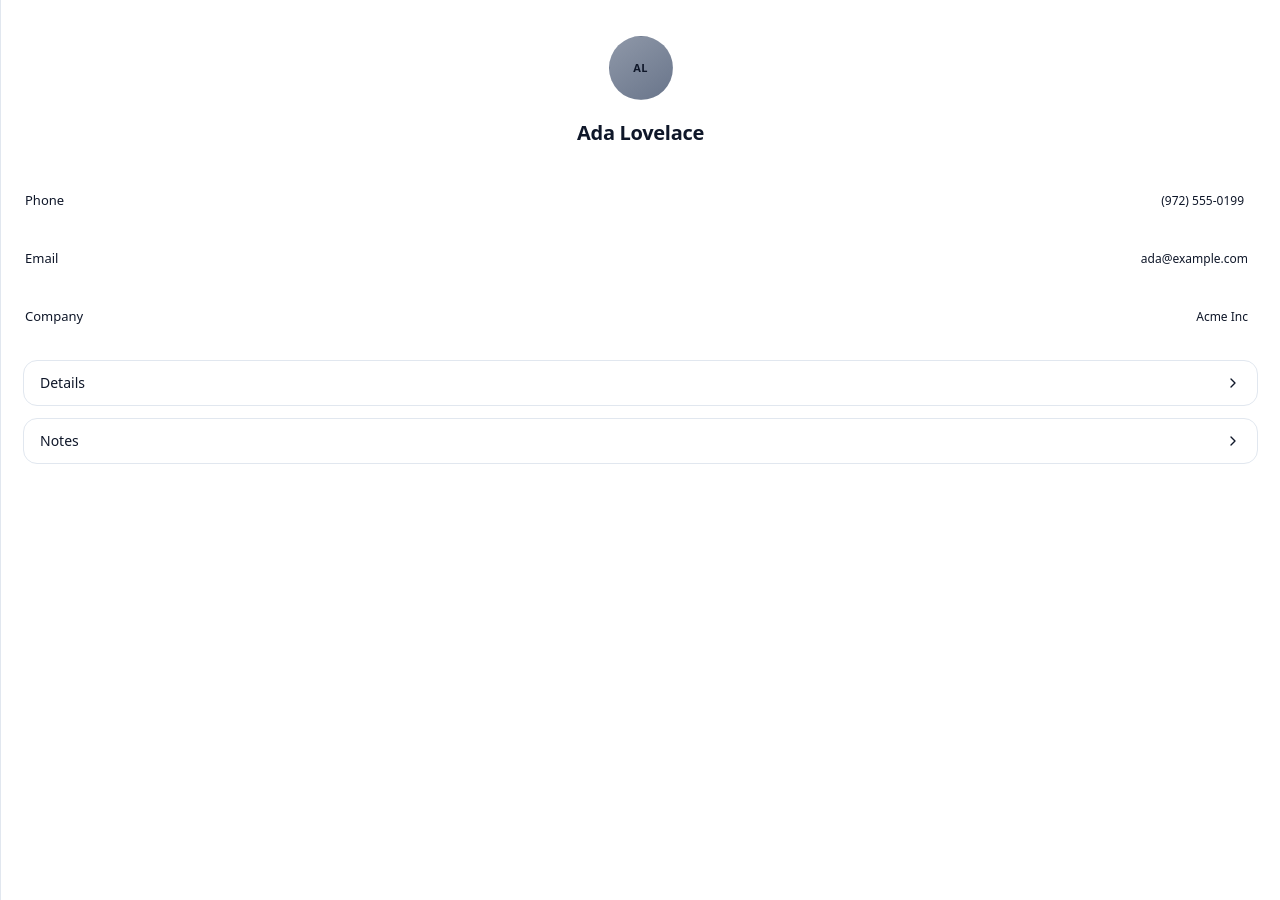
Test: ContactPanel › shows an error and keeps the field open (no silent failure) when the save fails
This screenshot has width=1280, height=900.
Check: the button "Acme Inc" is shown, box top-left (1188, 301), bottom-right (1256, 333)
Click the button "Details".
click(62, 382)  # box top-left (24, 361), bottom-right (1257, 405)
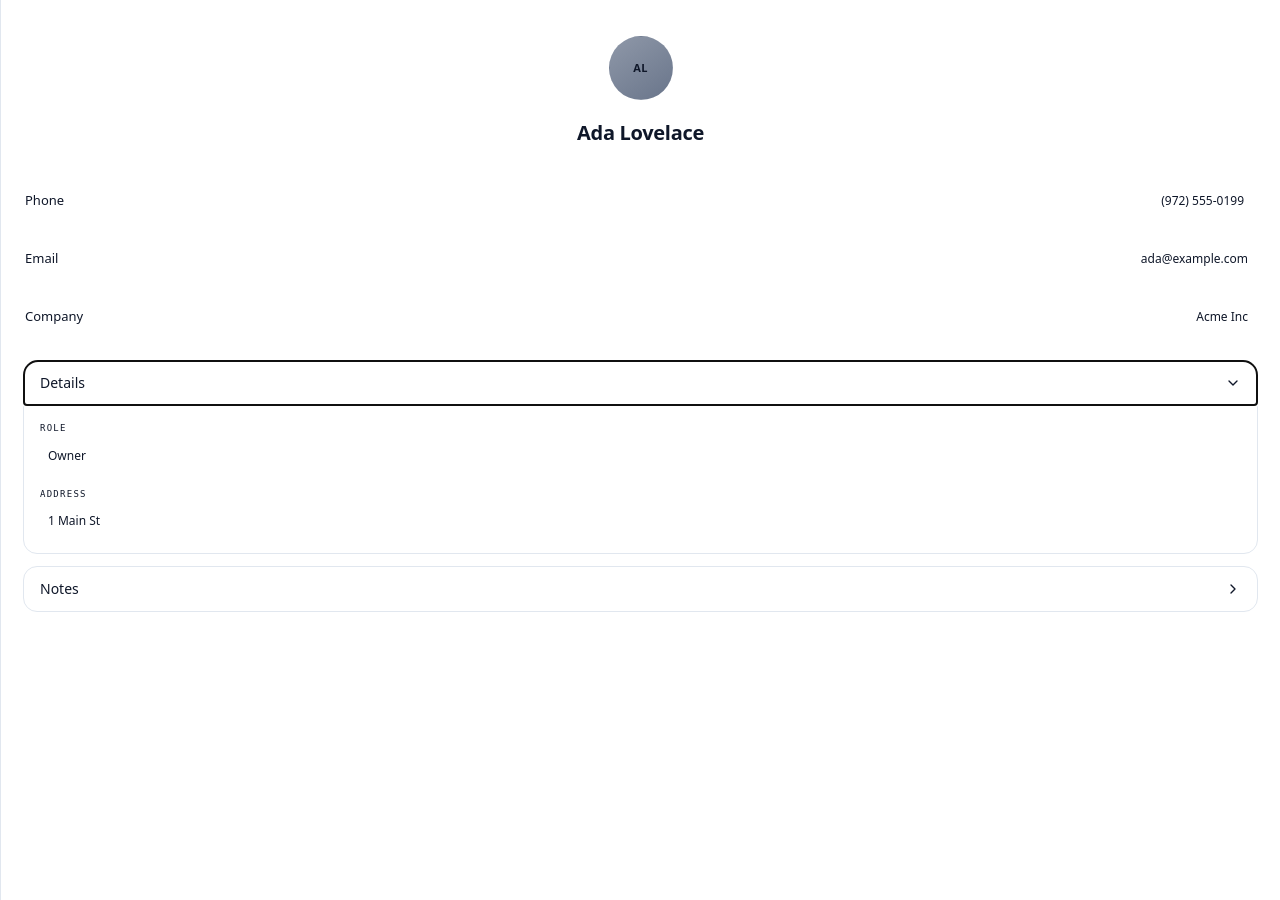
Click the button "Owner".
click(67, 455)  # box top-left (40, 440), bottom-right (1241, 472)
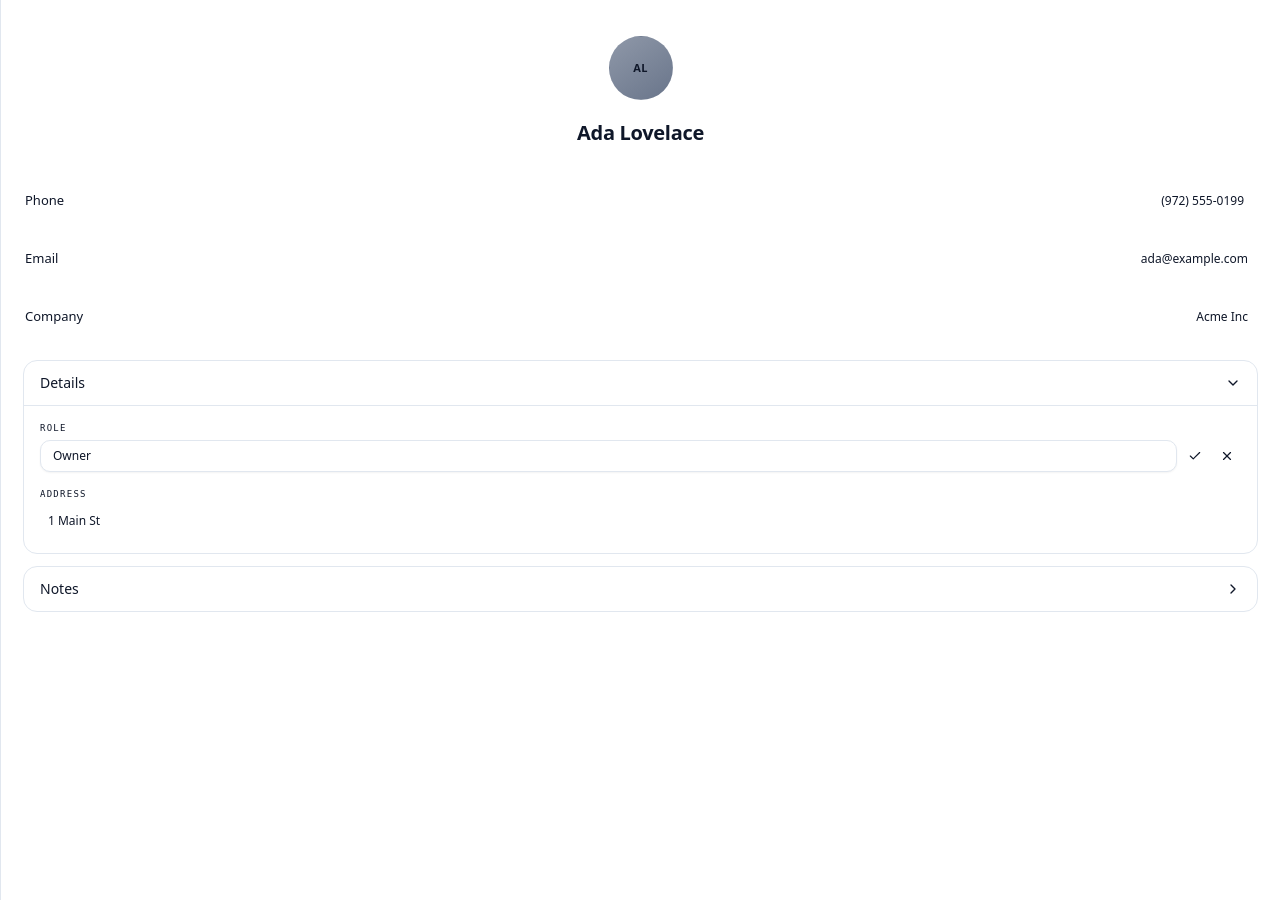
Replace the text in the field named "Role" with "Manager" at (608, 456), box top-left (40, 440), bottom-right (1177, 472)
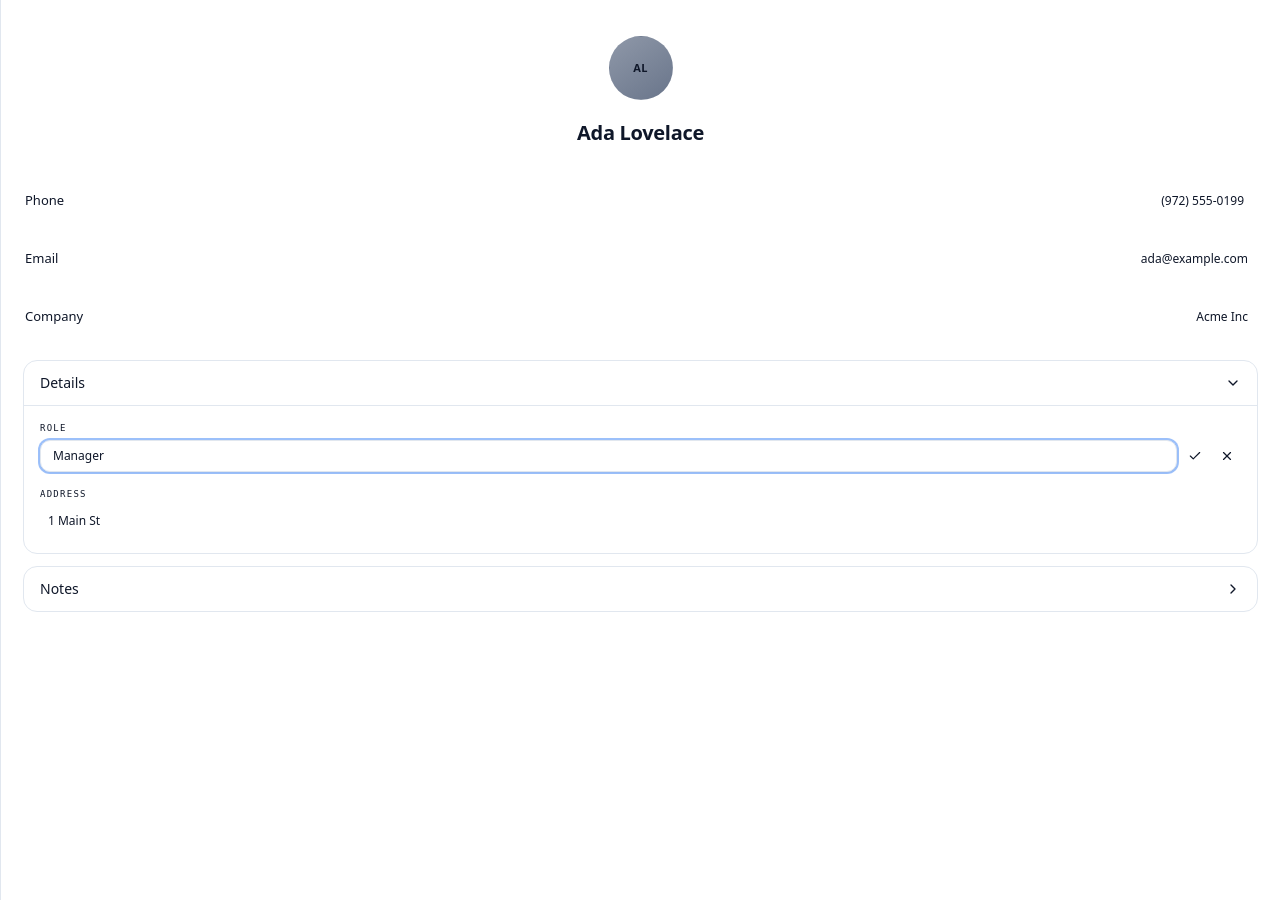
Click the button named "Save Role".
click(1195, 456)  # box top-left (1181, 442), bottom-right (1209, 470)
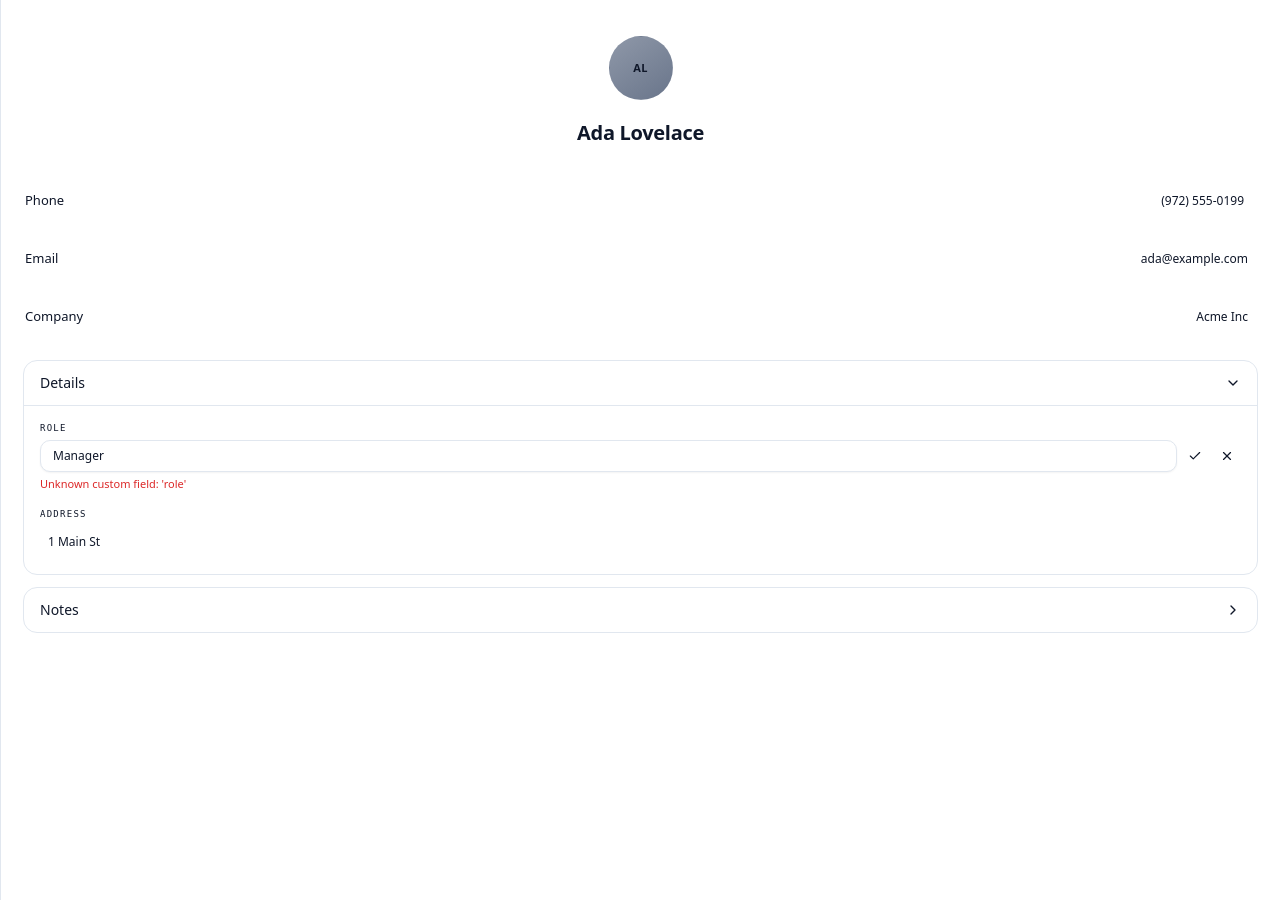
Check: the message reads "Unknown custom field: 'role'", box top-left (40, 476), bottom-right (186, 490)
